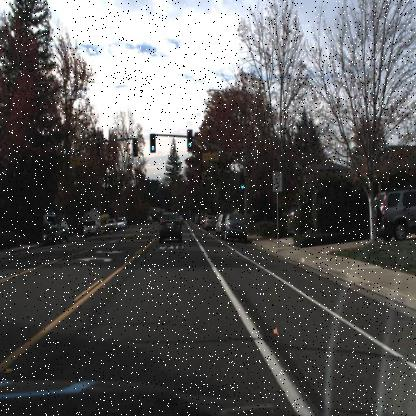car: (369, 186, 415, 243), (157, 209, 184, 245), (220, 211, 247, 242), (40, 220, 70, 246), (82, 218, 104, 238), (287, 200, 299, 236), (202, 209, 218, 232), (214, 212, 225, 236), (104, 216, 116, 235), (115, 217, 127, 231)
trafficLight-Green: (149, 132, 156, 154), (186, 128, 193, 150), (238, 172, 246, 191)
